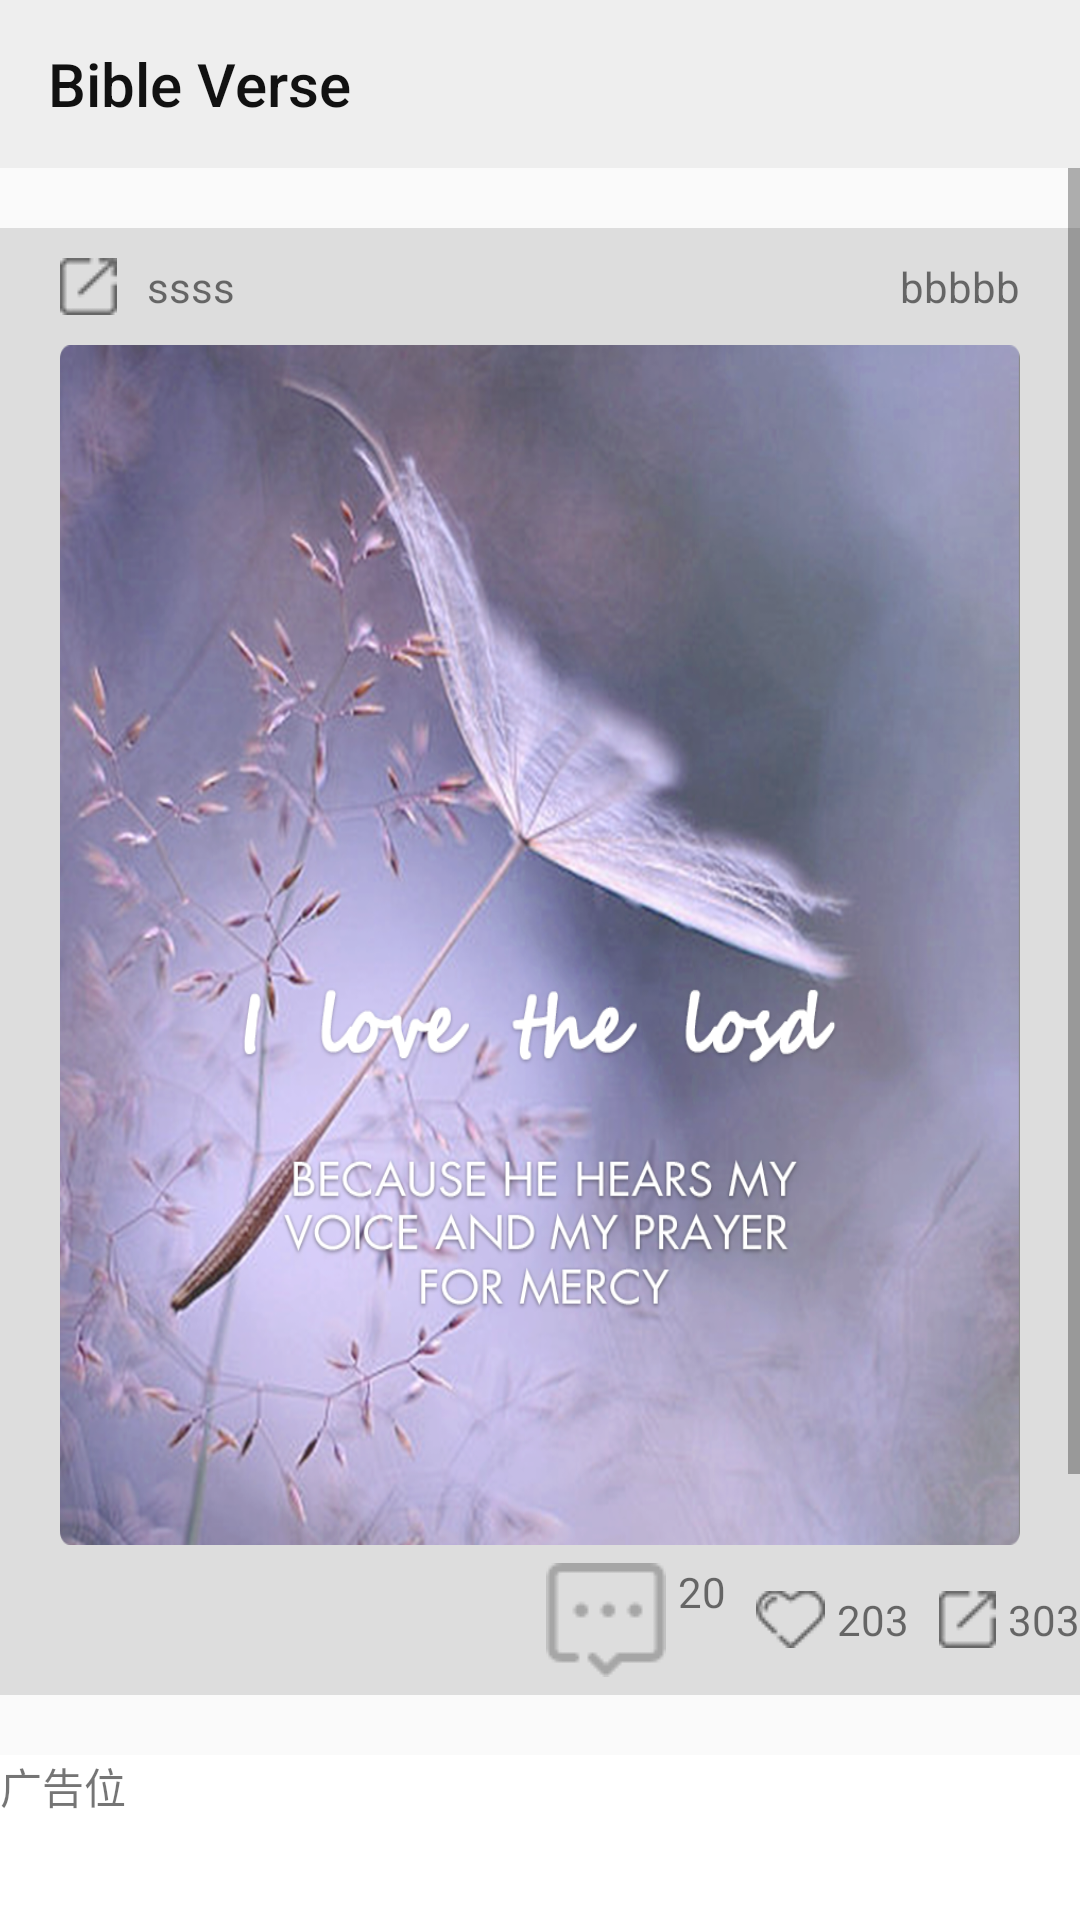

Where icons sit on this 1080px x 1920px app screen, as bbox=[x1, y1, x2, y2]:
share: bbox=[60, 258, 117, 315]
